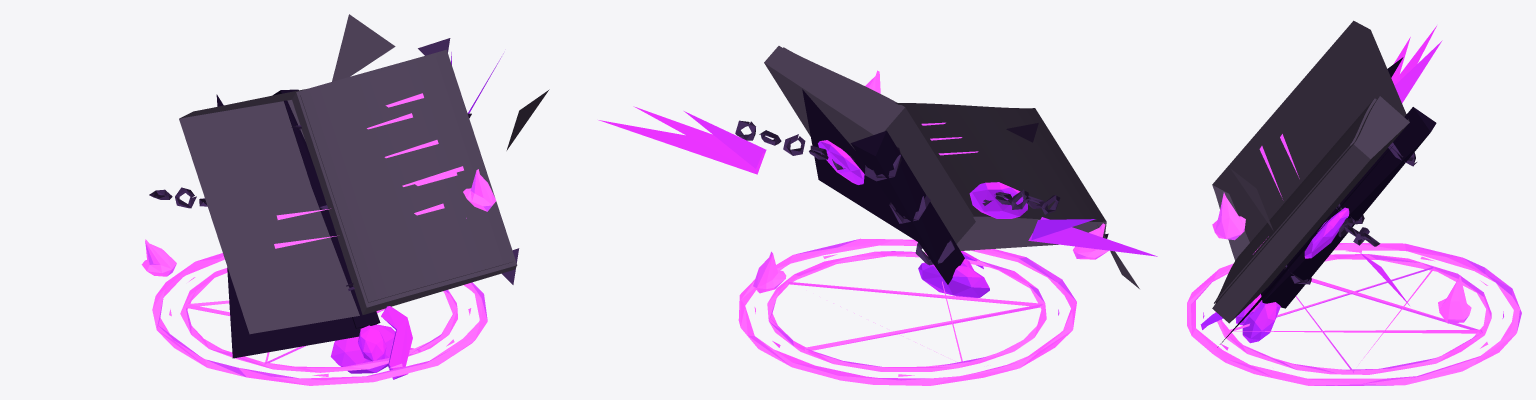
The model's file is tome_6.glb.
3 renders of one model, left to right at view 1: azimuth 30°, elevation 25°; view 2: azimuth 150°, elevation 25°; view 3: azimuth 270°, elevation 25°, orthographic.
Parts seen in each view (by area): view 1: Page__022, CoverL__002, CoverR__011, Circle__033, CoverL__001, Circle__034, Orbit__050, Book__026, Book__056, Book__032, Book__057, Orbit__052 (+4 smaller); view 2: CoverL__002, CoverR__011, Circle__033, Book__026, Circle__034, CoverR__010, Circle__035, Book__056, Book__058, CoverL__030, Book__061, Book__062 (+6 smaller); view 3: CoverL__002, CoverR__011, Circle__033, Book__026, Page__022, Circle__034, Circle__035, Book__056, Orbit__053, Orbit__051, CoverR__031, Book__060 (+4 smaller).
Part boxes in pixels (<box>): Page__022: <box>300,54,513,302</box>; CoverL__002: <box>179,89,359,334</box>; CoverR__011: <box>292,49,517,314</box>; Circle__033: <box>152,253,487,385</box>; CoverL__001: <box>216,94,361,358</box>; Circle__034: <box>180,268,457,372</box>; Orbit__050: <box>332,14,395,81</box>; Book__026: <box>272,89,380,328</box>; Book__056: <box>330,324,395,373</box>; Book__032: <box>381,306,412,379</box>; Book__057: <box>358,325,386,361</box>; Orbit__052: <box>141,239,176,276</box>; CoverL__002: <box>895,103,1106,250</box>; CoverR__011: <box>764,46,975,243</box>; Circle__033: <box>738,238,1076,385</box>; Book__026: <box>850,130,964,284</box>; Circle__034: <box>767,251,1046,371</box>; CoverR__010: <box>802,89,917,241</box>; Circle__035: <box>788,281,1043,364</box>; Book__056: <box>918,262,989,297</box>; Book__058: <box>1028,217,1157,256</box>; CoverL__030: <box>969,182,1027,218</box>; Book__061: <box>598,120,760,174</box>; Book__062: <box>633,106,764,172</box>; CoverL__002: <box>1212,20,1409,260</box>; CoverR__011: <box>1212,96,1409,323</box>; Circle__033: <box>1187,243,1521,385</box>; Book__026: <box>1261,107,1436,308</box>; Page__022: <box>1214,98,1376,303</box>; Circle__034: <box>1215,254,1491,374</box>; Circle__035: <box>1224,266,1482,372</box>; Book__056: <box>1242,302,1280,343</box>; Orbit__053: <box>1438,275,1471,323</box>; Orbit__051: <box>1212,192,1245,240</box>; CoverR__031: <box>1304,207,1349,258</box>; Book__060: <box>1394,40,1442,103</box>.
Size of the model in its own units: 0.4492 by 0.1967 by 0.2346.
